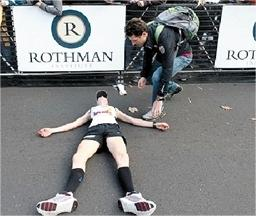bending: (122, 5, 195, 126)
down: (34, 86, 172, 216)
